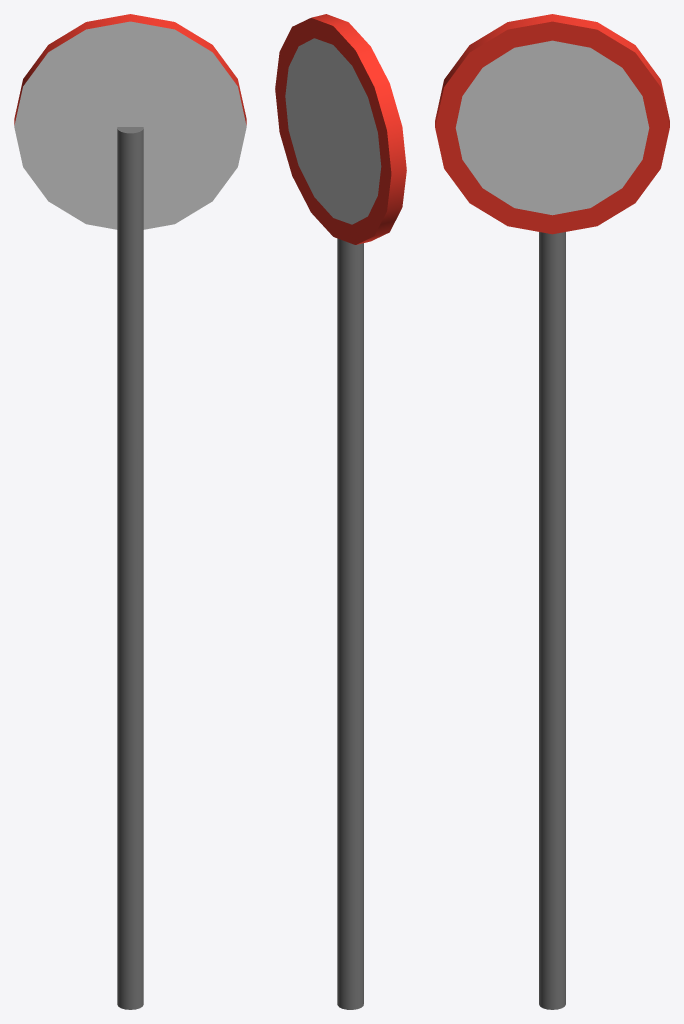
The model's file is P_Sign_01.dae.
3 renders of one model, left to right at view 1: azimuth 90°, elevation 25°; view 2: azimuth 210°, elevation 25°; view 3: azimuth 270°, elevation 25°, orthographic.
Visible parts, largest first — view 1: Sign_01; view 2: Sign_01; view 3: Sign_01.
Boxes of the visible parts, x1=… form: Sign_01: x1=14, y1=14, x2=246, y2=1009; Sign_01: x1=275, y1=14, x2=406, y2=1009; Sign_01: x1=435, y1=14, x2=669, y2=1009.
Bounding box in the file's own units: 0.0898 × 0.6251 × 2.91.
